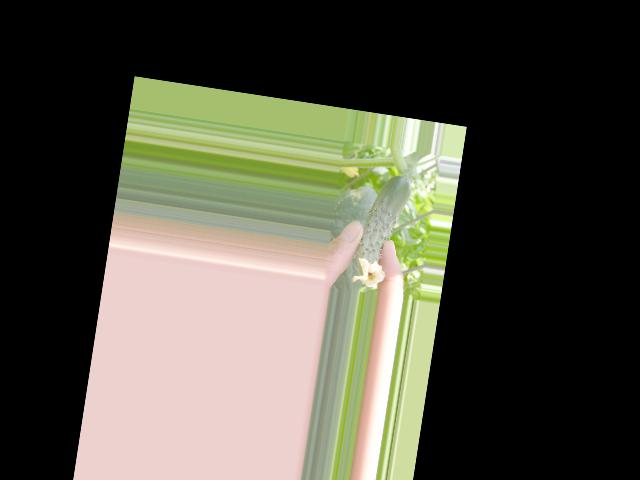cucumber: (351, 170, 412, 290)
